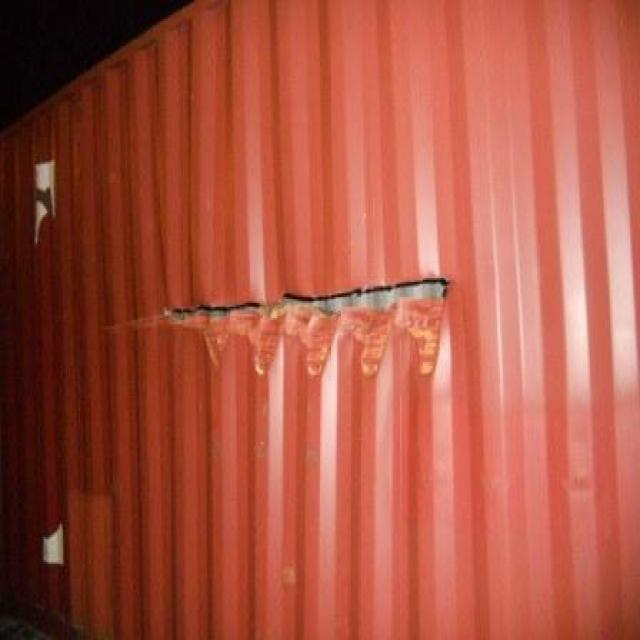hole: (166, 277, 452, 329)
